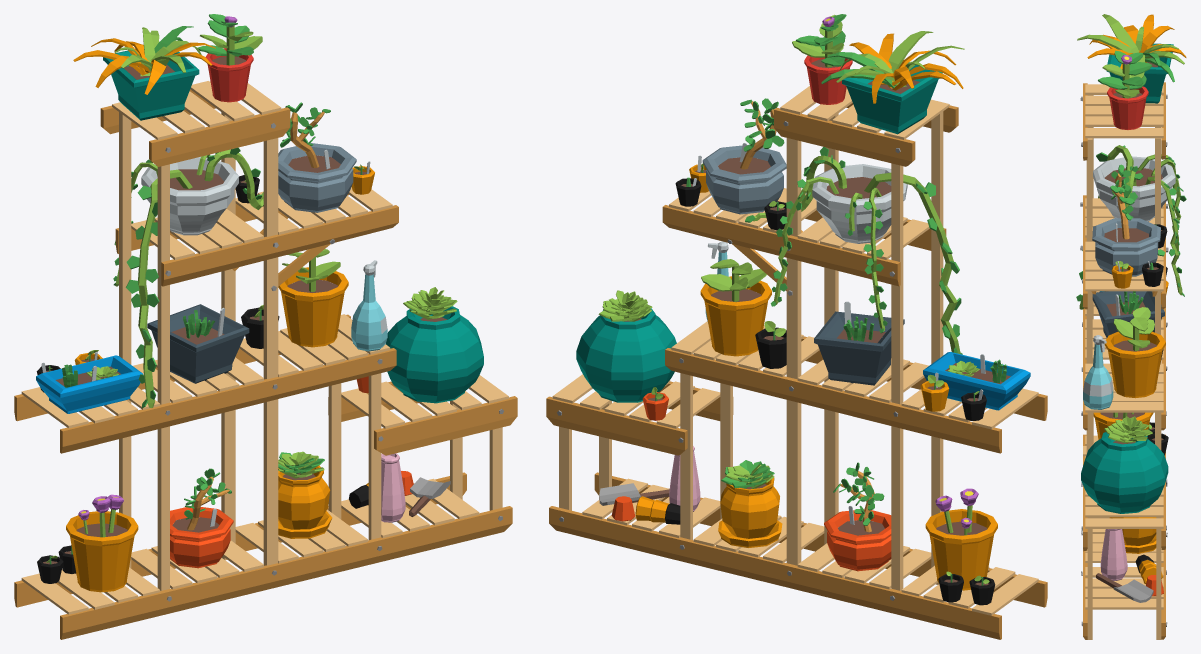
The model's file is Shelf.glb.
3 views of the same model, side by side, from view 1: azimuth 30°, elevation 25°; view 2: azimuth 150°, elevation 25°; view 3: azimuth 270°, elevation 25° (orthographic). The views are drawn at different scales.
Parts seen in each view (by area): view 1: Shelf; view 2: Shelf; view 3: Shelf.
Part boxes in pixels (x1,y1,x2,y2): Shelf: [14, 14, 517, 639]; Shelf: [546, 14, 1047, 639]; Shelf: [1076, 14, 1186, 639].
Size of the model in its own units: 1.84 by 2.16 by 0.4516.
